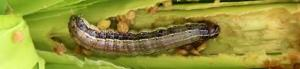fallarmy_worm: (66, 13, 223, 56)
